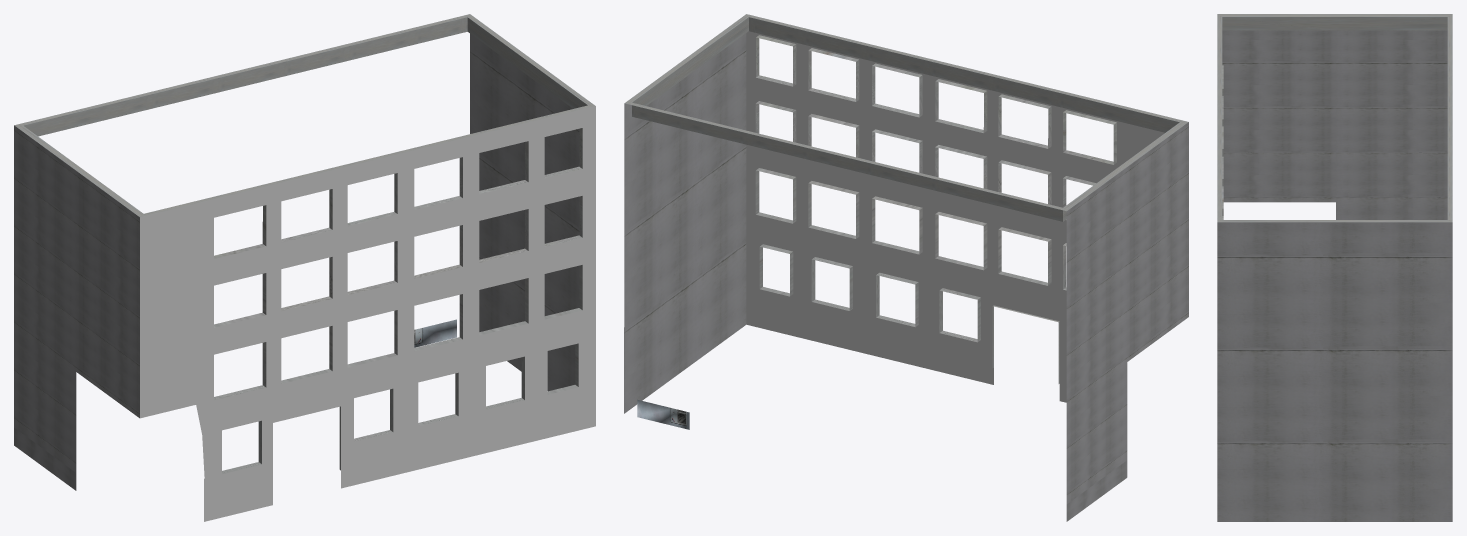
File: 大楼外部拆分.fbx
3 renders of one model, left to right at view 1: azimuth 30°, elevation 25°; view 2: azimuth 150°, elevation 25°; view 3: azimuth 270°, elevation 25°, orthographic. The views are drawn at different scales.
Visible parts, largest first — view 1: polySurface274; view 2: polySurface274; view 3: polySurface274.
Boxes of the visible parts, x1,y1,x2,y2 form: polySurface274: (14,14,595,521); polySurface274: (624,14,1188,521); polySurface274: (1217,14,1452,521).
Size of the model in its own units: 3039 by 2039 by 1451.
